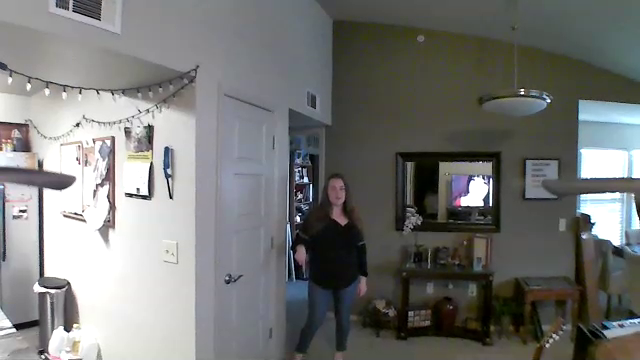down: (290, 241, 311, 278)
